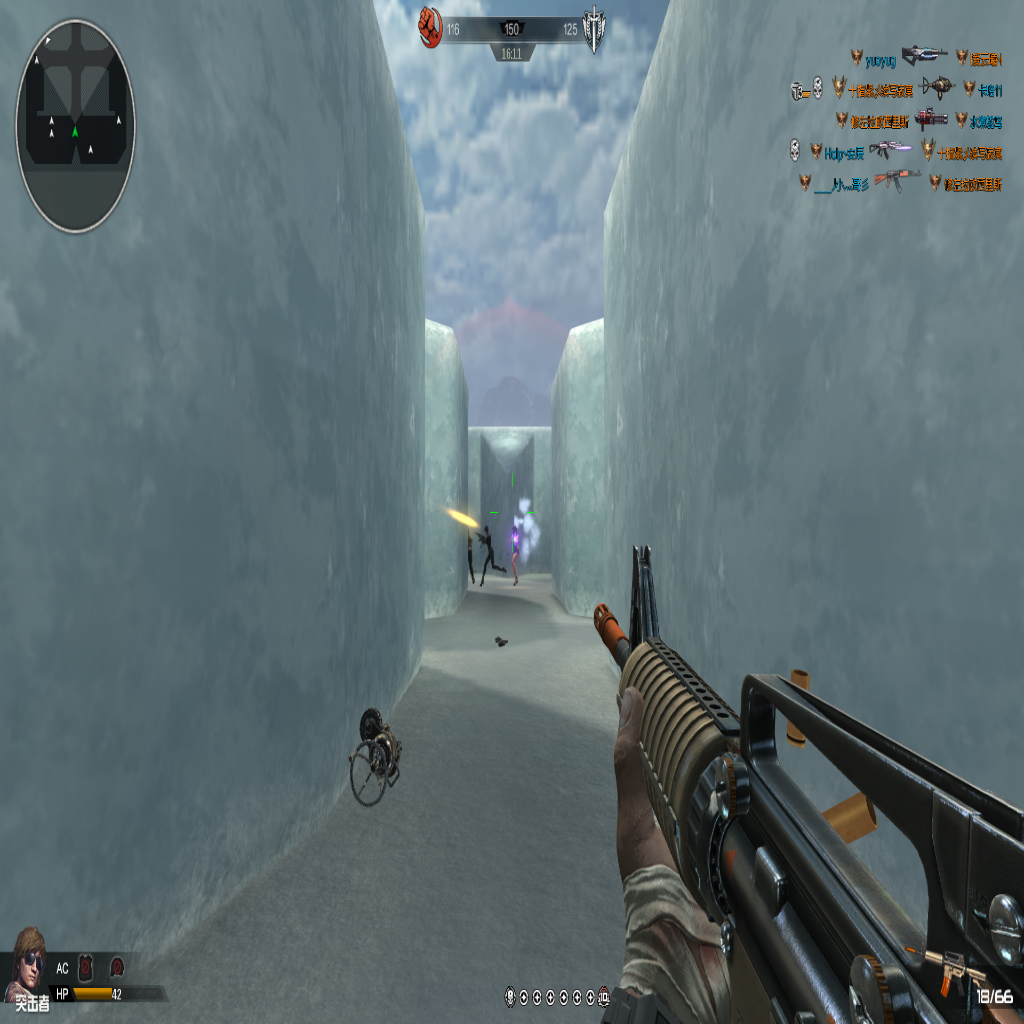ct: (481, 524, 499, 576), (466, 528, 475, 584)
